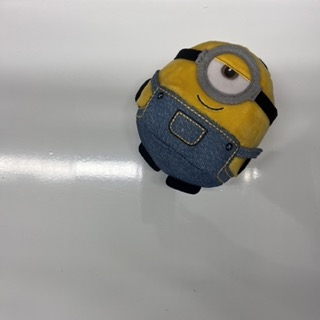minion: (136, 40, 278, 194)
